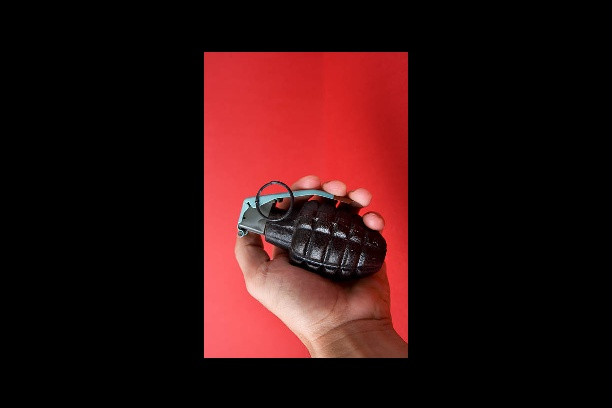e1: (233, 178, 390, 285)
